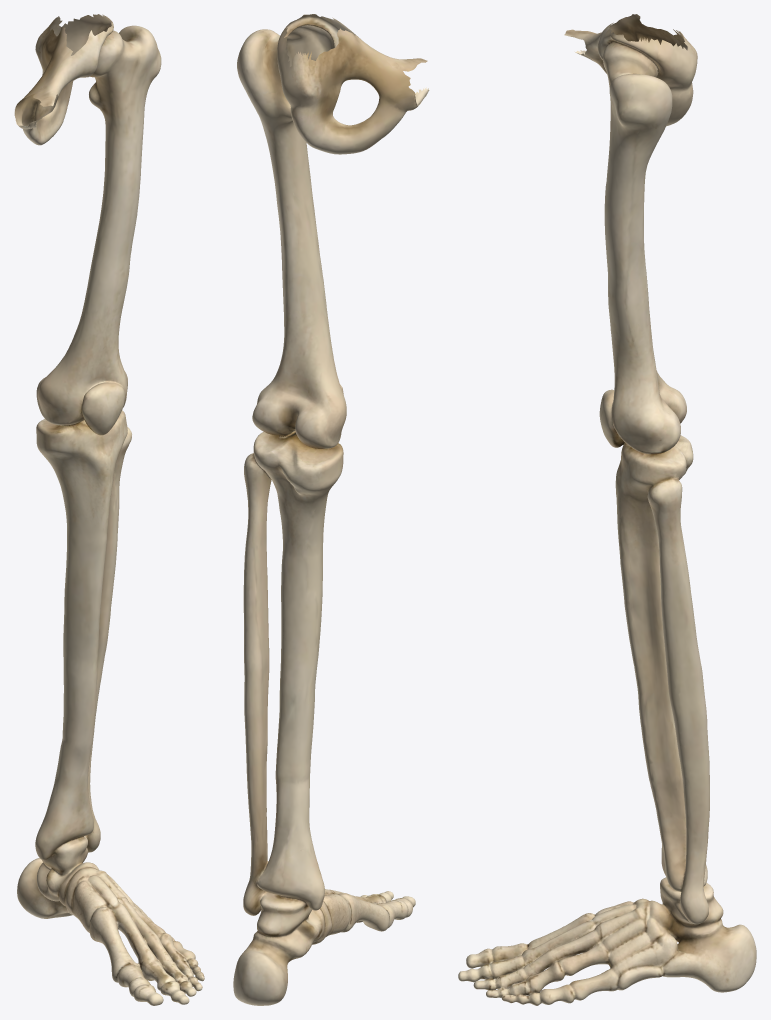
Rendered from PiernaIzq.obj.
3 views of the same model, side by side, from view 1: azimuth 30°, elevation 25°; view 2: azimuth 150°, elevation 25°; view 3: azimuth 270°, elevation 25° (orthographic). The views are drawn at different scales.
Parts seen in each view (by area): view 1: PiernaIzq; view 2: PiernaIzq; view 3: PiernaIzq.
Part boxes in pixels (<box>): PiernaIzq: <box>14,14,204,1005</box>; PiernaIzq: <box>233,14,429,1005</box>; PiernaIzq: <box>458,14,756,1005</box>.
Bounding box in the file's own units: 0.1662 × 0.943 × 0.2671.
Materials: 1 (1 with a texture image).
